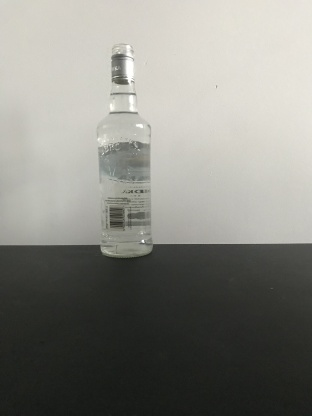nakretka: (109, 43, 135, 85)
